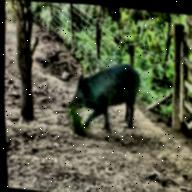boar: (63, 52, 150, 135)
